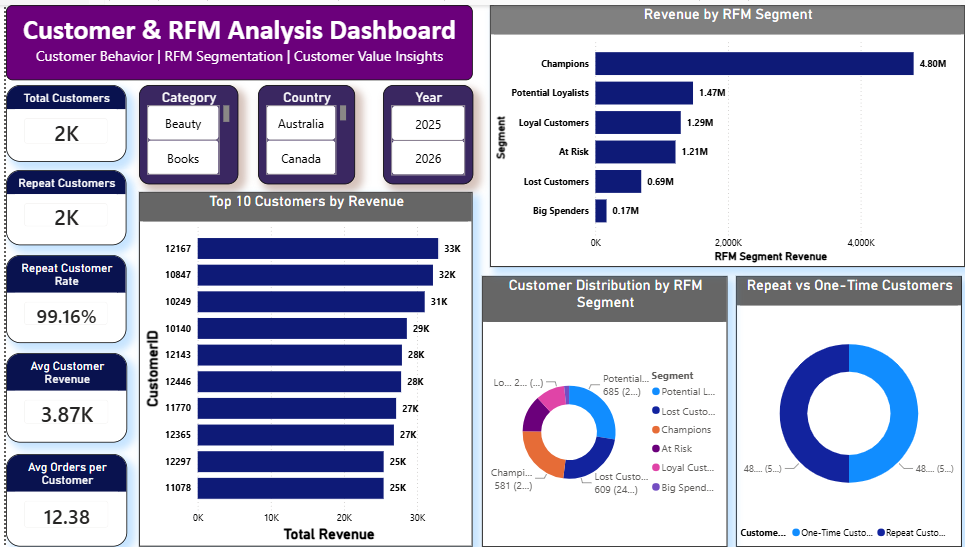

The page's visual inventory and layout, read from the dashboard file:
{"tool":"powerbi","page":{"name":"Page 2","canvas":[1280,720],"ordinal":1},"visuals":[{"type":"textbox","box":[0,0,853.2,139],"z":0},{"type":"advancedSlicerVisual","fields":{"Values":["ecommerce_sales_cleaned.Country"]},"box":[867.8,0,137.6,139],"z":4},{"type":"advancedSlicerVisual","fields":{"Values":["ecommerce_sales_cleaned.Category"]},"box":[1018.5,0,131.7,139],"z":5},{"type":"advancedSlicerVisual","fields":{"Values":["ecommerce_sales_cleaned.InvoiceDate.Variation.Date Hierarchy.Year"]},"box":[1160.5,0,120,139],"z":6},{"type":"cardVisual","title":"Total Customers","fields":{"Data":["ecommerce_sales_cleaned.Total Customers"]},"box":[11.7,163.9,226.8,122.9],"z":7},{"type":"cardVisual","title":"Repeat Customer Rate","fields":{"Data":["ecommerce_sales_cleaned.Repeat Customer Rate"]},"box":[531.2,163.9,225.4,122.9],"z":8},{"type":"cardVisual","title":"Repeat Customers","fields":{"Data":["ecommerce_sales_cleaned.Repeat Customers"]},"box":[275.1,163.9,231.2,122.9],"z":9},{"type":"cardVisual","title":"Avg Customer Revenue","fields":{"Data":["ecommerce_sales_cleaned.Avg Customer Revenue"]},"box":[774.1,163.9,231.2,122.9],"z":10},{"type":"cardVisual","title":"Avg Orders per Customer","fields":{"Data":["ecommerce_sales_cleaned.Avg Orders per Customer"]},"box":[1028.8,163.9,238.5,122.9],"z":11},{"type":"donutChart","title":"Repeat vs One-Time Customers","fields":{"Category":["Customer_Summary.Customer_Type"],"Y":["CountNonNull(ecommerce_sales_cleaned.CustomerID)"]},"box":[0,305.9,275.1,393.7],"z":12},{"type":"clusteredBarChart","title":"Top 10 Customers by Revenue","fields":{"Category":["ecommerce_sales_cleaned.CustomerID"],"Y":["ecommerce_sales_cleaned.Total Revenue"]},"box":[292.7,305.9,333.7,393.7],"z":13},{"type":"donutChart","title":"Customer Distribution by RFM Segment","fields":{"Category":["RFM_Analysis.Segment"],"Y":["CountNonNull(RFM_Analysis.CustomerID)"]},"box":[639.5,305.9,308.8,393.7],"z":14},{"type":"clusteredBarChart","title":"Revenue by RFM Segment","fields":{"Category":["RFM_Analysis.Segment"],"Y":["RFM_Analysis.RFM Segment Revenue"]},"box":[958.5,305.9,308.8,393.7],"z":15}]}

Visuals, with their boxes in screenshot pixels (x1, y1, x2, y2), scaled from the page's 1280x720 canvas onto the 965x547 screenshot:
textbox: l=0, t=0, r=643, b=106
advancedSlicerVisual - ecommerce_sales_cleaned.Country: l=654, t=0, r=758, b=106
advancedSlicerVisual - ecommerce_sales_cleaned.Category: l=768, t=0, r=867, b=106
advancedSlicerVisual - ecommerce_sales_cleaned.InvoiceDate.Variation.Date Hierarchy.Year: l=875, t=0, r=964, b=106
"Total Customers" cardVisual: l=9, t=125, r=180, b=218
"Repeat Customer Rate" cardVisual: l=400, t=125, r=570, b=218
"Repeat Customers" cardVisual: l=207, t=125, r=382, b=218
"Avg Customer Revenue" cardVisual: l=584, t=125, r=758, b=218
"Avg Orders per Customer" cardVisual: l=776, t=125, r=955, b=218
"Repeat vs One-Time Customers" donutChart: l=0, t=232, r=207, b=532
"Top 10 Customers by Revenue" clusteredBarChart: l=221, t=232, r=472, b=532
"Customer Distribution by RFM Segment" donutChart: l=482, t=232, r=715, b=532
"Revenue by RFM Segment" clusteredBarChart: l=723, t=232, r=955, b=532
